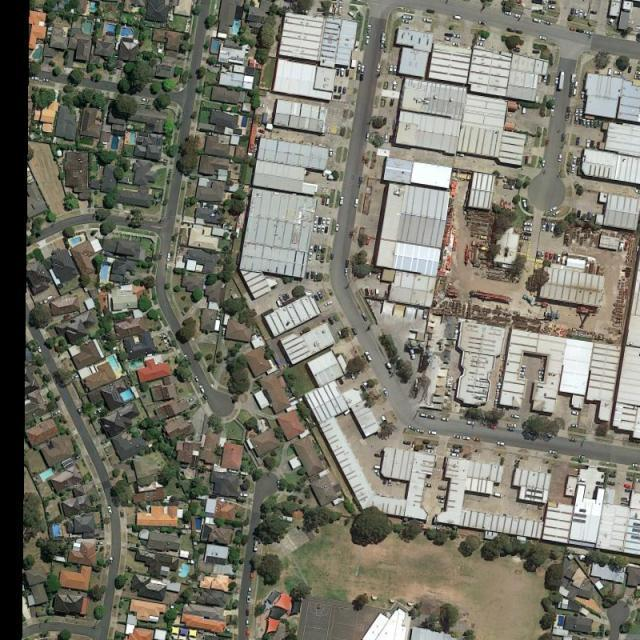vehicle: (365, 350, 372, 362), (491, 492, 504, 498), (402, 14, 414, 20), (380, 32, 386, 44), (618, 240, 624, 252), (198, 384, 205, 394), (422, 17, 433, 23), (35, 344, 42, 353), (382, 387, 389, 396), (366, 24, 372, 34), (375, 62, 381, 72), (324, 300, 334, 306), (328, 316, 334, 326), (410, 350, 416, 360), (427, 430, 437, 436), (450, 448, 462, 453), (556, 254, 562, 264), (190, 403, 198, 410), (254, 538, 258, 552), (347, 11, 355, 18), (340, 67, 345, 78), (522, 198, 527, 209), (522, 227, 533, 232), (388, 65, 394, 74), (333, 94, 342, 100), (362, 313, 368, 322), (352, 326, 358, 335), (466, 420, 475, 426), (544, 20, 553, 26), (361, 64, 366, 74), (329, 148, 334, 158), (318, 290, 323, 300), (510, 414, 520, 419), (538, 35, 548, 40), (550, 103, 555, 113), (523, 222, 533, 227), (522, 232, 532, 237), (549, 251, 554, 261), (608, 18, 615, 25), (119, 510, 125, 518), (380, 98, 386, 106), (386, 362, 392, 370), (408, 425, 416, 431), (426, 448, 434, 454), (453, 434, 461, 440), (478, 20, 486, 26), (550, 206, 558, 212), (553, 210, 561, 216), (77, 406, 82, 415), (107, 506, 112, 515), (246, 594, 251, 603), (380, 41, 385, 50), (325, 197, 330, 206), (339, 197, 344, 206), (419, 413, 428, 418), (428, 415, 437, 420), (417, 429, 426, 434), (440, 417, 449, 422), (436, 495, 445, 500), (450, 453, 459, 458), (472, 437, 481, 442), (489, 425, 498, 430), (426, 9, 435, 14), (453, 15, 462, 20), (548, 5, 557, 10), (584, 30, 593, 35), (569, 26, 578, 31), (613, 70, 622, 75), (558, 153, 563, 162), (522, 236, 531, 241), (552, 253, 557, 262), (495, 442, 506, 446), (546, 222, 550, 233), (550, 222, 554, 233), (53, 410, 60, 416), (374, 470, 380, 477), (387, 479, 393, 486), (30, 77, 40, 81), (194, 375, 199, 383), (222, 328, 226, 338), (187, 397, 195, 402), (247, 586, 252, 594), (240, 493, 248, 498), (366, 35, 370, 45), (393, 82, 398, 90), (383, 82, 388, 90), (335, 67, 339, 77), (345, 70, 350, 78), (366, 132, 370, 142), (362, 154, 366, 164), (354, 198, 358, 208), (349, 230, 354, 238), (338, 330, 343, 338), (507, 423, 517, 427), (545, 434, 555, 438), (570, 411, 578, 416), (570, 423, 578, 428), (569, 437, 577, 442), (578, 454, 586, 459), (503, 11, 513, 15), (533, 17, 541, 22), (554, 77, 559, 85), (578, 10, 583, 18), (590, 10, 598, 15), (575, 107, 579, 117), (574, 115, 578, 125), (573, 155, 577, 165), (570, 165, 575, 173), (536, 250, 541, 258), (541, 250, 546, 258), (544, 251, 549, 259), (42, 78, 51, 82), (167, 253, 171, 262), (246, 618, 250, 627), (245, 608, 249, 617), (357, 63, 361, 72), (393, 65, 397, 74), (390, 98, 394, 107), (358, 177, 362, 186), (314, 216, 318, 225), (326, 217, 330, 226), (314, 244, 318, 253), (318, 244, 322, 253), (309, 253, 313, 262), (438, 486, 447, 490), (549, 450, 558, 454), (575, 29, 584, 33), (566, 106, 570, 115), (590, 119, 594, 128), (586, 139, 590, 148), (542, 222, 546, 231), (576, 209, 580, 218), (345, 260, 350, 267), (376, 273, 381, 280), (425, 483, 432, 488), (463, 435, 470, 440), (583, 11, 588, 18), (142, 98, 150, 102), (246, 629, 250, 637), (250, 573, 254, 581), (338, 86, 342, 94), (333, 85, 337, 93), (384, 135, 388, 143), (318, 217, 322, 225), (322, 217, 326, 225), (335, 224, 339, 232), (366, 237, 370, 245), (321, 226, 325, 234), (310, 244, 314, 252), (344, 268, 348, 276), (370, 288, 374, 296), (506, 427, 514, 431), (632, 463, 640, 467), (402, 19, 410, 23), (444, 37, 452, 41), (453, 34, 461, 38), (453, 42, 461, 46), (514, 14, 522, 18), (543, 74, 547, 82), (574, 81, 578, 89), (572, 88, 576, 96), (628, 66, 632, 74), (578, 117, 582, 125), (582, 118, 586, 126), (586, 119, 590, 127), (542, 159, 546, 167), (579, 108, 582, 118), (313, 225, 317, 232), (330, 253, 334, 260), (365, 288, 369, 295), (438, 499, 445, 503), (477, 42, 484, 46), (317, 225, 320, 234), (575, 8, 578, 17), (343, 86, 346, 94), (322, 198, 325, 206), (325, 226, 328, 234), (316, 254, 320, 260), (375, 288, 378, 296)
